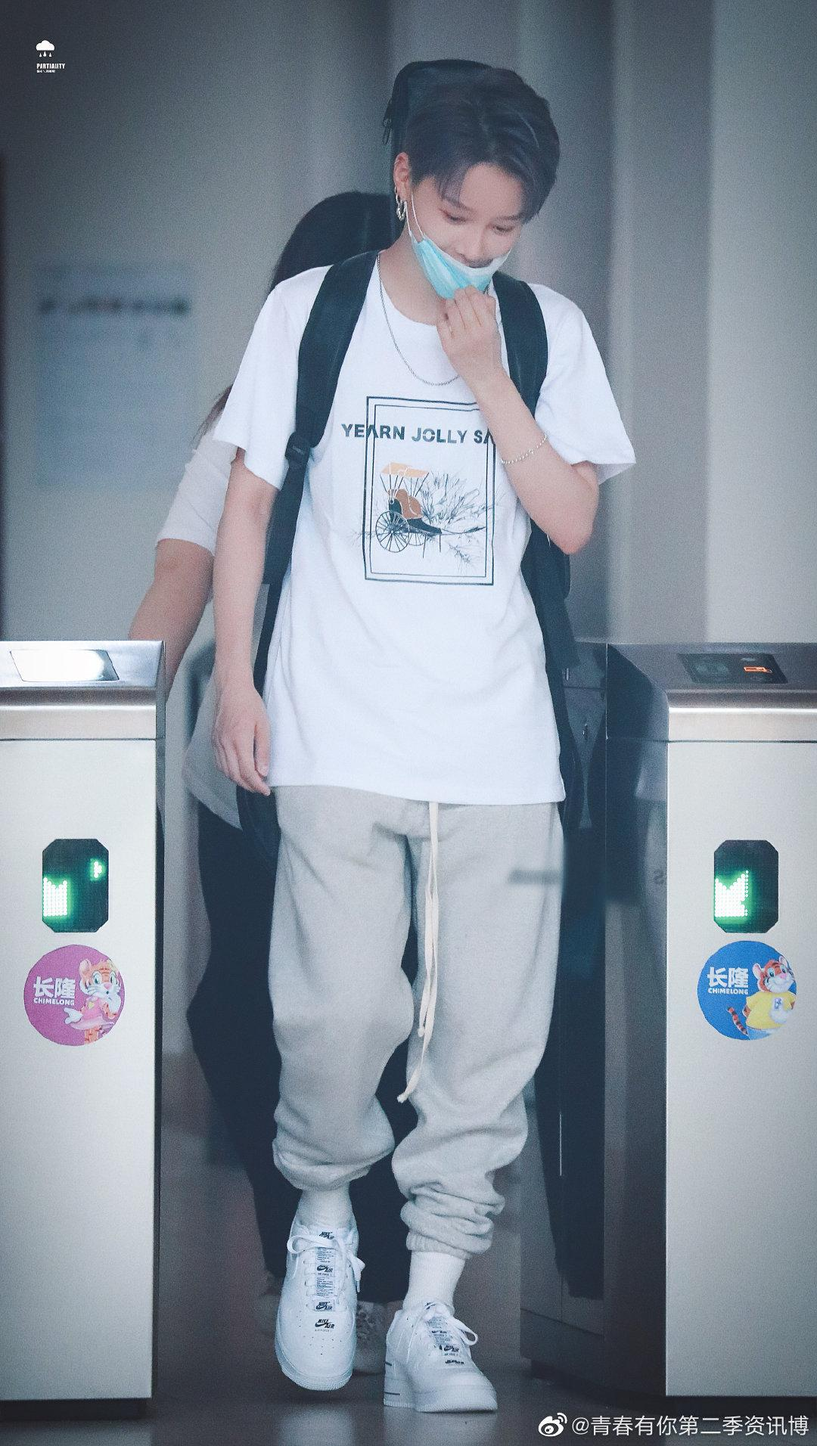WRONG: (416, 176, 523, 303)
